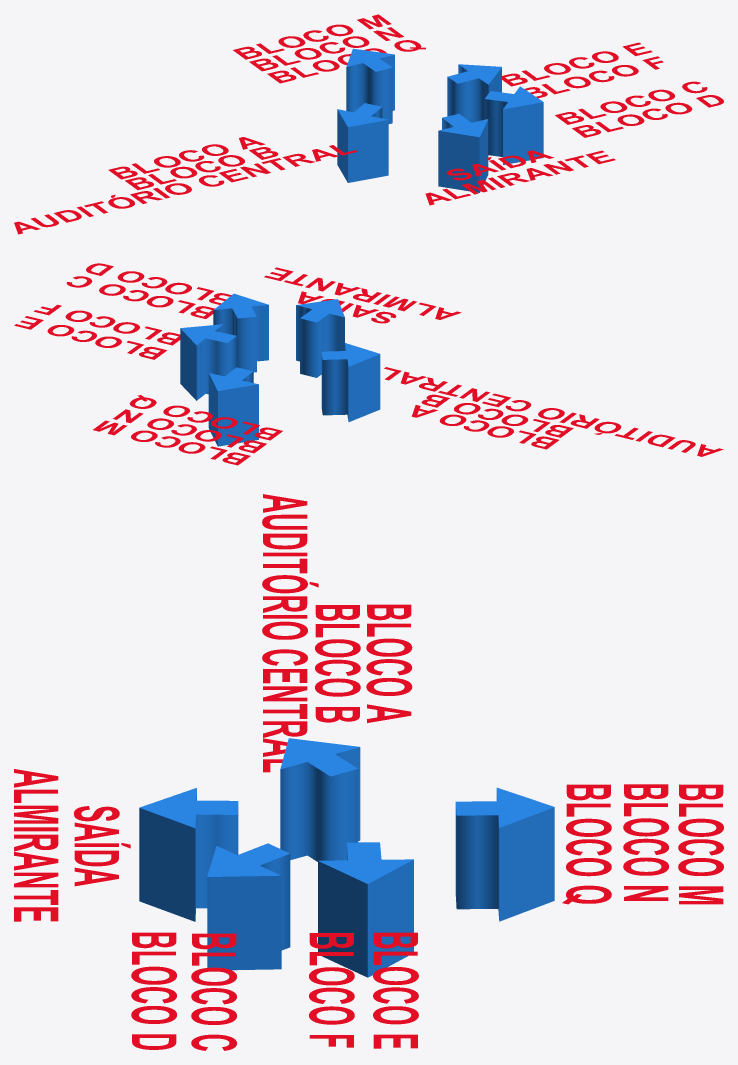
The model's file is bloco H - 0.glb.
3 renders of one model, top to bottom at view 1: azimuth 30°, elevation 25°; view 2: azimuth 150°, elevation 25°; view 3: azimuth 270°, elevation 25°, orthographic. The views are drawn at different scales.
Visible parts, largest first — view 1: Curve.005, Curve.002, Curve.001, Curve.006, Curve.003, Text.004, Text.008, Text.001, Text.014, Text.012, Text.003, Text.006 (+5 smaller); view 2: Curve.002, Curve.006, Curve.003, Curve.001, Curve.005, Text.004, Text.008, Text.001, Text.013, Text.014, Text.012, Text.003 (+5 smaller); view 3: Curve.006, Curve.003, Curve.001, Curve.005, Curve.002, Text.004, Text.008, Text.001, Text.013, Text.003, Text.014, Text.006 (+5 smaller).
Boxes of the visible parts, x1,y1,x2,y2 form: Curve.005: [484, 86, 543, 164]; Curve.002: [337, 103, 388, 182]; Curve.001: [438, 113, 488, 192]; Curve.006: [346, 48, 394, 123]; Curve.003: [447, 64, 501, 122]; Text.004: [14, 145, 357, 234]; Text.008: [425, 150, 615, 205]; Text.001: [233, 14, 391, 59]; Text.014: [125, 147, 278, 189]; Text.012: [249, 27, 403, 71]; Text.003: [502, 42, 652, 86]; Text.006: [572, 95, 723, 137]; Curve.002: [321, 343, 380, 421]; Curve.006: [208, 367, 258, 446]; Curve.003: [180, 324, 236, 400]; Curve.001: [296, 299, 344, 377]; Curve.005: [213, 293, 268, 372]; Text.004: [384, 367, 723, 456]; Text.008: [264, 267, 461, 319]; Text.001: [93, 420, 250, 465]; Text.013: [129, 395, 282, 440]; Text.014: [421, 394, 573, 437]; Text.012: [113, 409, 266, 453]; Text.003: [14, 316, 166, 359]; Curve.006: [455, 787, 554, 921]; Curve.003: [318, 842, 413, 977]; Curve.001: [139, 788, 238, 921]; Curve.005: [207, 843, 290, 970]; Curve.002: [280, 738, 360, 861]; Text.004: [262, 494, 318, 772]; Text.008: [14, 769, 58, 921]; Text.001: [678, 784, 723, 904]; Text.013: [562, 784, 611, 904]; Text.003: [373, 932, 418, 1048]; Text.014: [315, 605, 360, 722]; Text.006: [131, 932, 176, 1049].
Size of the model in its own units: 4.41 by 0.3585 by 2.4.
